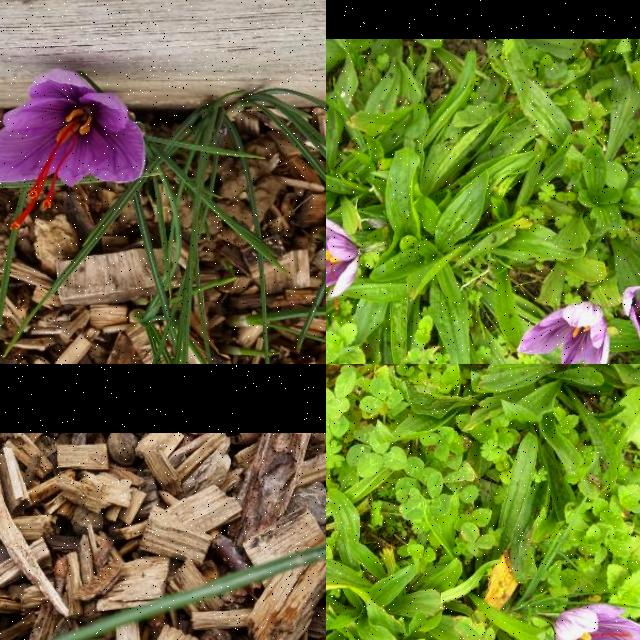flower: (0, 70, 148, 231), (517, 301, 610, 364), (326, 213, 363, 308), (553, 603, 640, 640)
